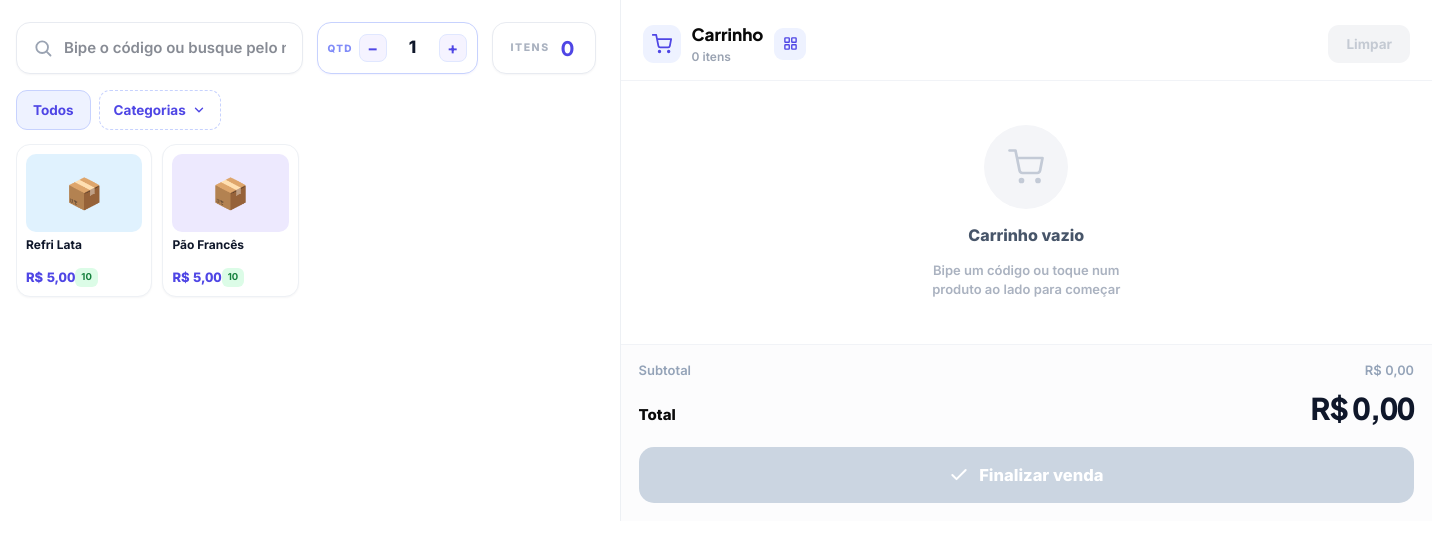
Test case: CashierScreen chips dinâmicos (RF07/RF08 — spec T08/T10) › T08 — filtro ativo é por category.id (null nunca vira 'Outros' — RN04)
Click the button with aria-label "Mostrar categorias". click: (160, 110)
box: [99, 90, 221, 130]
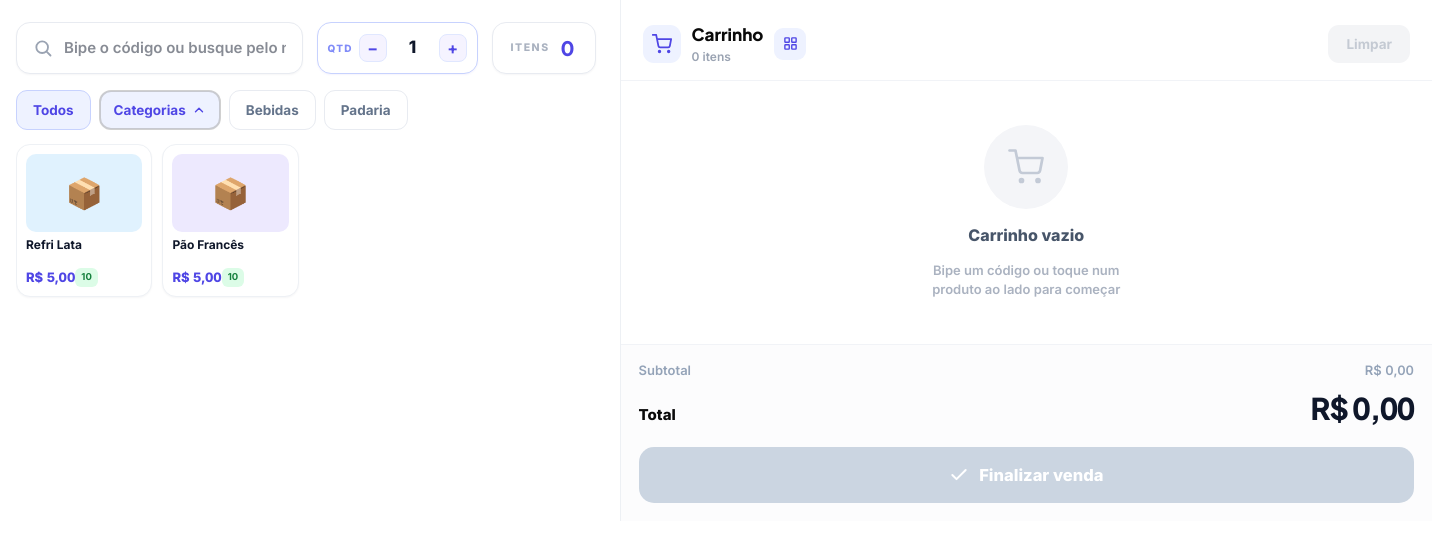
Click the button "Bebidas". click: (272, 110)
box: [229, 90, 316, 130]
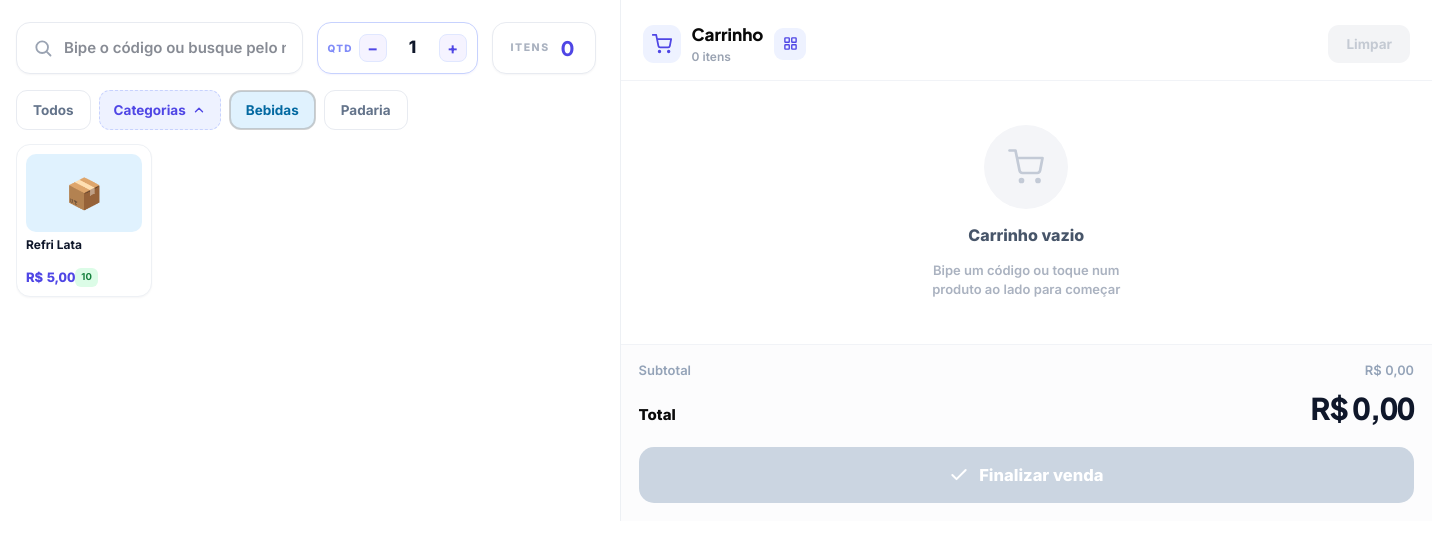
Check: the text "Refri Lata" is shown, box [26, 238, 82, 262]
Check: the button "Pão Francês" is gone
